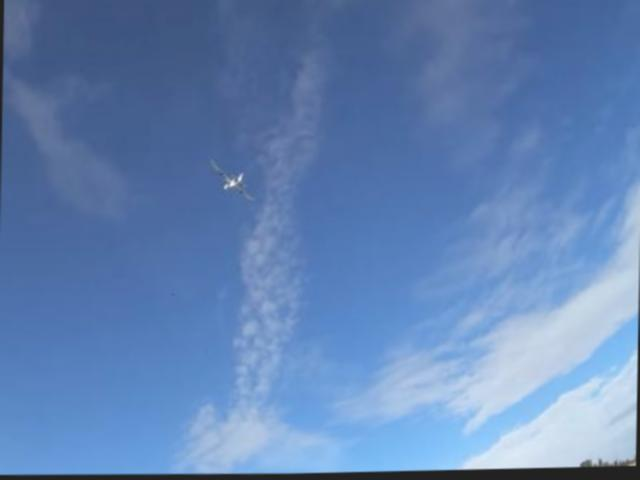uav: (205, 148, 262, 211)
